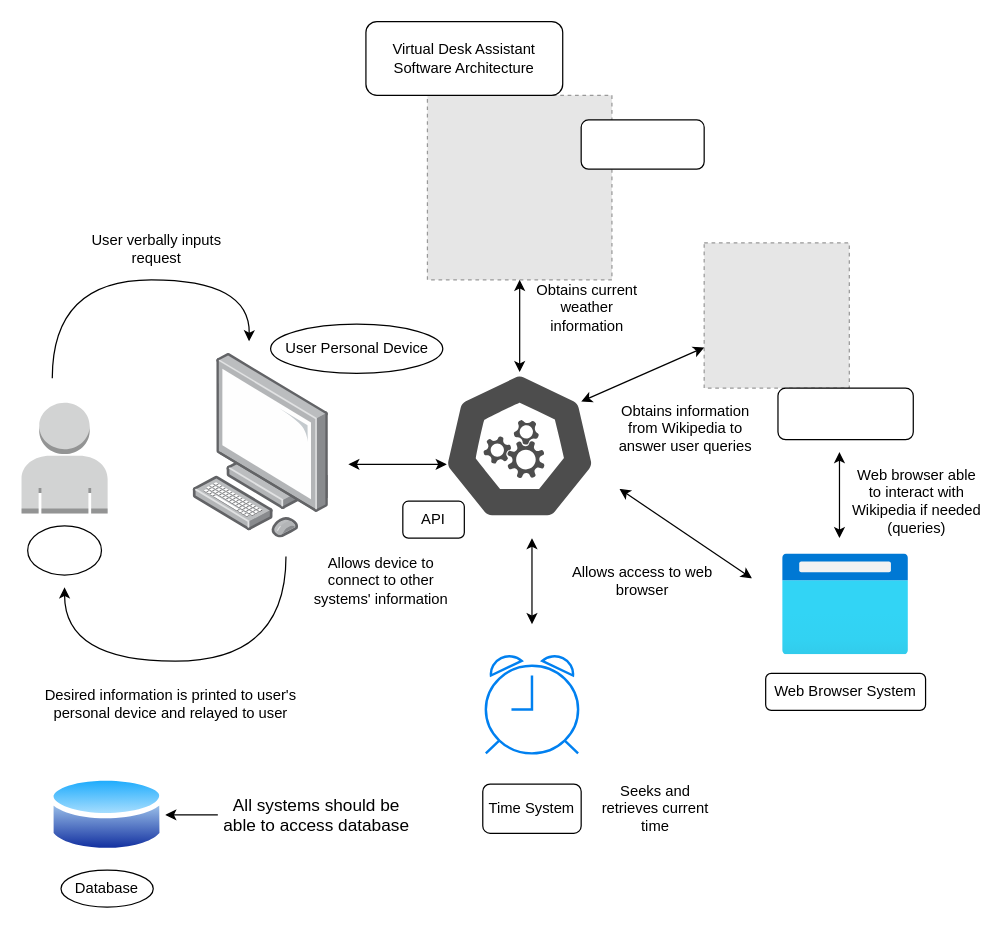
Image size: 1006x929. Some labels were removed from this diagram. Grey dashed boxes stand in for pictures. Here are the shapes that lost their labels. From the top down, the centre of each, then its label:
point (642, 144): Weather System
point (845, 413): Wikipedia System
point (63, 550): User
